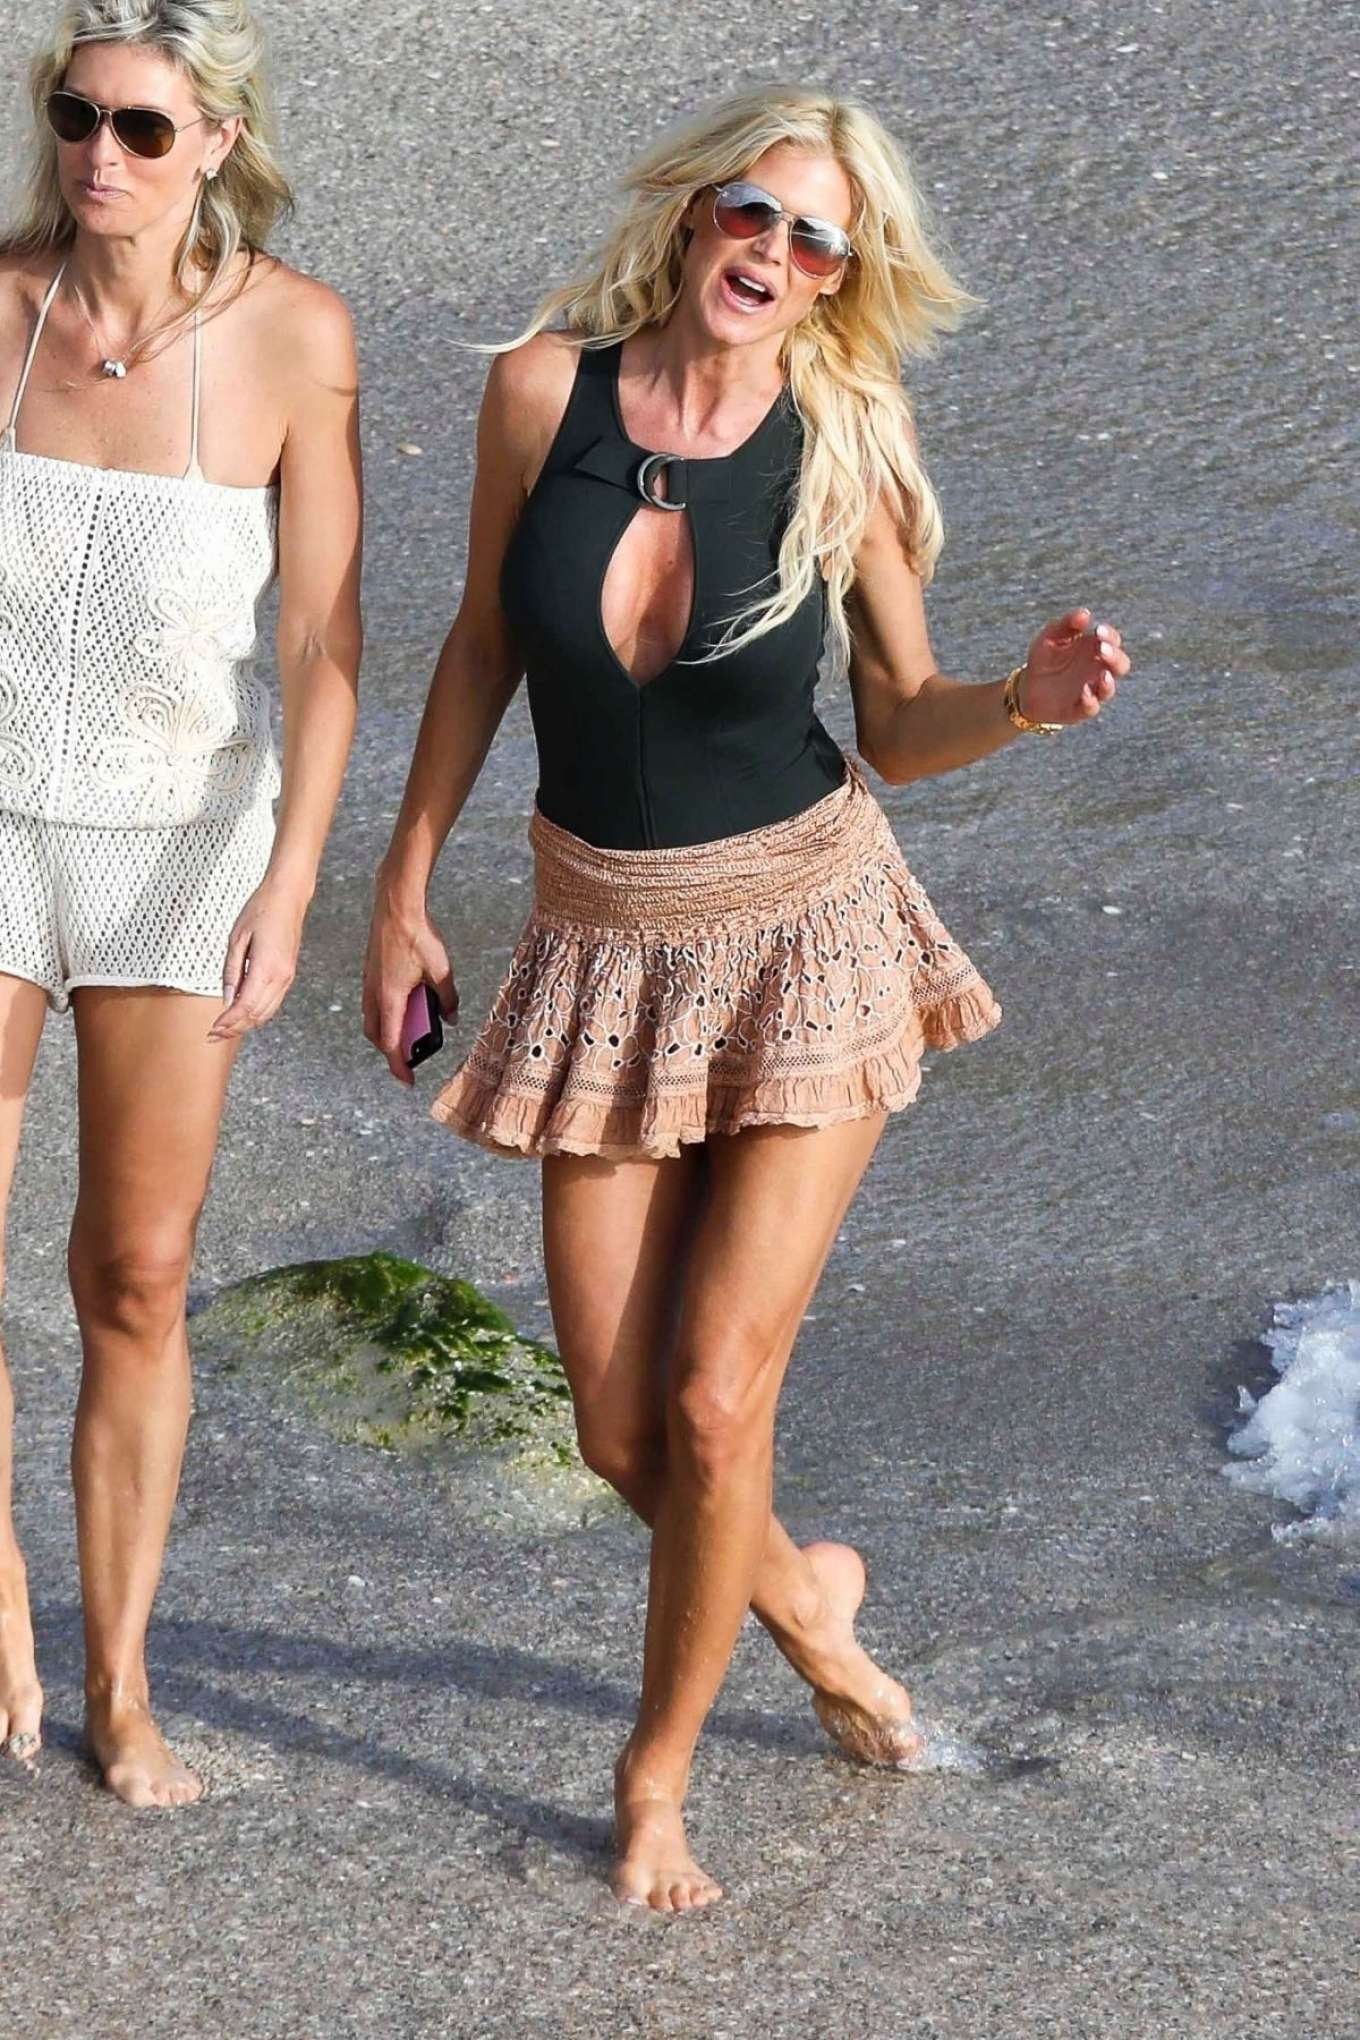Person: (372, 80, 1152, 1927), (5, 1, 372, 1837)
